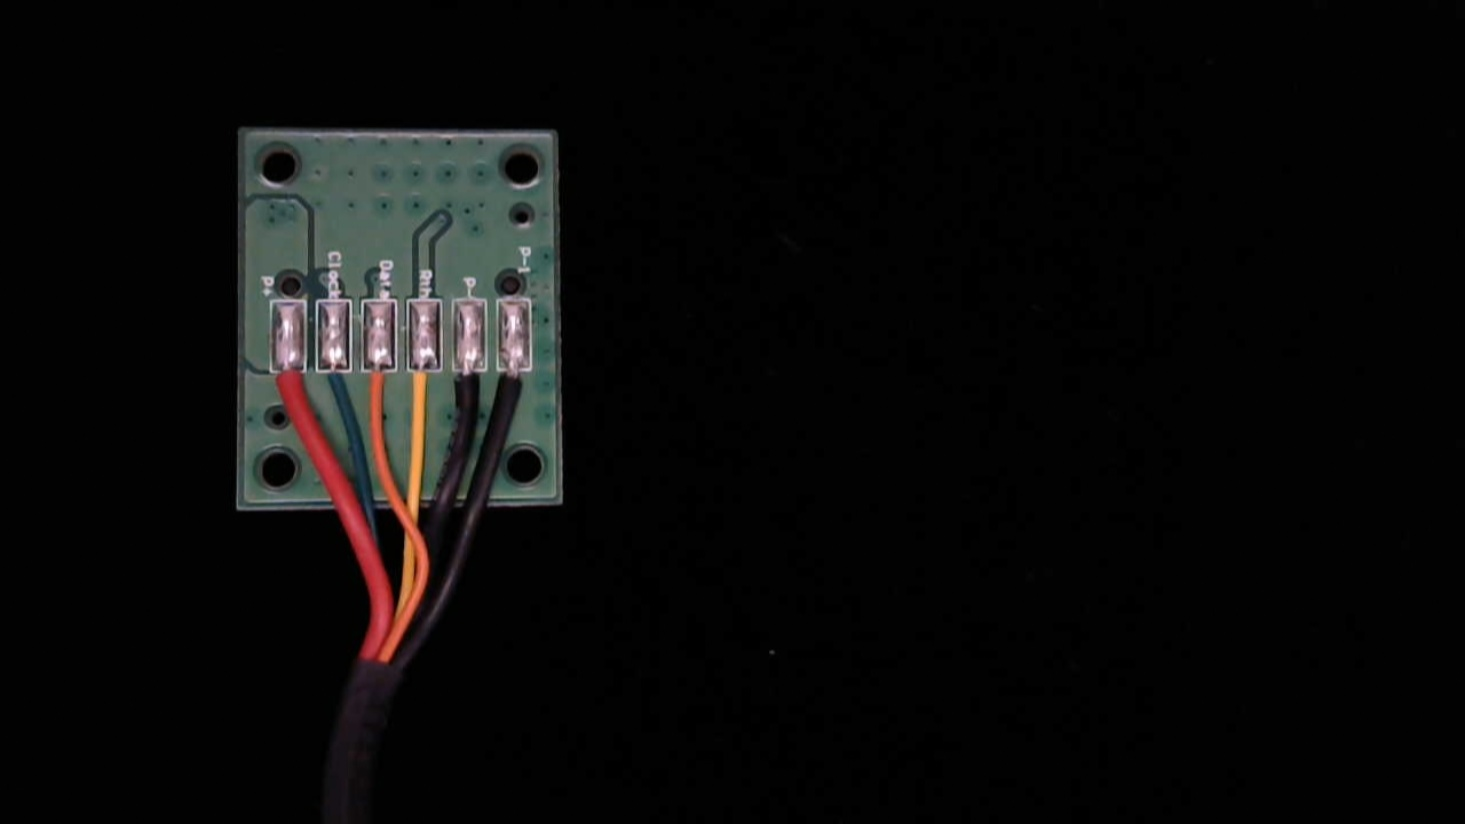Black: (434, 331, 480, 423)
Black1: (484, 333, 528, 418)
Green: (281, 329, 329, 418)
Orange: (332, 331, 376, 422)
Red: (225, 329, 275, 418)
Yellow: (381, 331, 429, 424)
